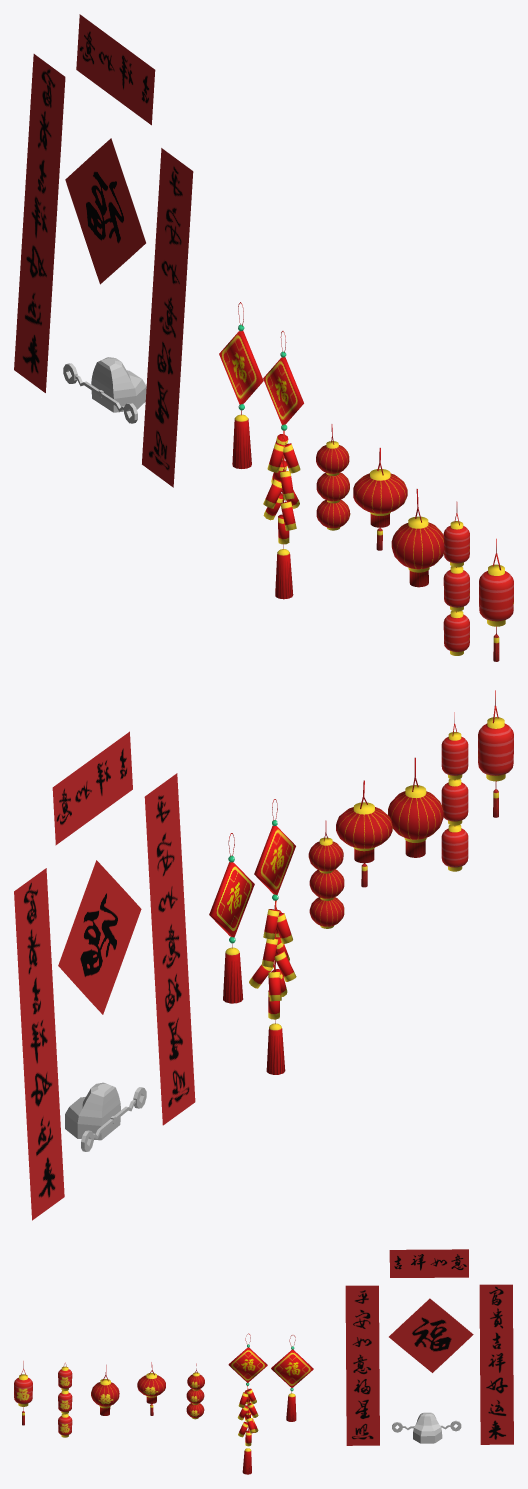
The model's file is Spring Festival model.fbx.
3 views of the same model, one above another, from view 1: azimuth 30°, elevation 25°; view 2: azimuth 150°, elevation 25°; view 3: azimuth 270°, elevation 25° (orthographic). The views are drawn at different scales.
Visible parts, largest first — view 1: couplet2, couplet1, couplet4, firecracker1, couplet3, Lantern1-1, firecracker2, Wealth God hat, Lantern2, Lantern2-2, Lantern2-1, Lantern1; view 2: couplet1, couplet2, couplet4, firecracker1, couplet3, Lantern1-1, firecracker2, Wealth God hat, Lantern2, Lantern2-2, Lantern2-1, Lantern1; view 3: couplet2, couplet1, couplet4, couplet3, firecracker1, firecracker2, Wealth God hat, Lantern1-1, Lantern2, Lantern2-2, Lantern2-1, Lantern1.
Boxes of the visible parts, x1,y1,x2,y2 form: couplet2: (14, 54, 65, 392); couplet1: (142, 148, 193, 487); couplet4: (65, 138, 145, 284); firecracker1: (263, 331, 303, 599); couplet3: (76, 14, 155, 125); Lantern1-1: (443, 501, 469, 655); firecracker2: (219, 302, 263, 468); Wealth God hat: (63, 357, 146, 423); Lantern2: (391, 488, 443, 587); Lantern2-2: (316, 424, 350, 530); Lantern2-1: (353, 447, 407, 550); Lantern1: (479, 538, 513, 661); couplet1: (144, 773, 195, 1125); couplet2: (14, 868, 64, 1220); couplet4: (58, 860, 141, 1014); firecracker1: (249, 799, 296, 1074); couplet3: (52, 731, 132, 845); Lantern1-1: (441, 712, 468, 871); firecracker2: (209, 833, 254, 1003); Wealth God hat: (65, 1082, 146, 1151); Lantern2: (388, 757, 443, 857); Lantern2-2: (308, 820, 344, 928); Lantern2-1: (336, 780, 392, 887); Lantern1: (478, 690, 513, 817); couplet2: (479, 1284, 513, 1444); couplet1: (345, 1285, 379, 1445); couplet4: (389, 1298, 473, 1372); couplet3: (389, 1249, 468, 1277); firecracker1: (228, 1333, 267, 1474); firecracker2: (271, 1335, 313, 1421); Wealth God hat: (392, 1412, 461, 1443); Lantern1-1: (58, 1362, 72, 1437); Lantern2: (91, 1364, 119, 1415); Lantern2-2: (186, 1363, 204, 1419); Lantern2-1: (137, 1362, 165, 1415); Lantern1: (14, 1361, 32, 1425).
Size of the model in its own units: 95.39 by 743 by 1497.
